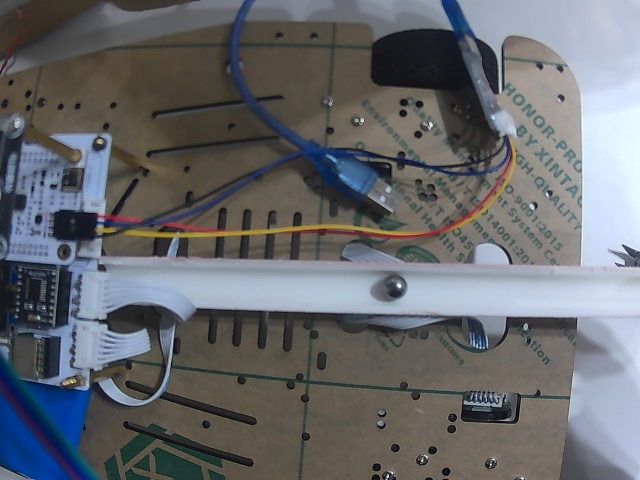steelball: (383, 275, 408, 299)
